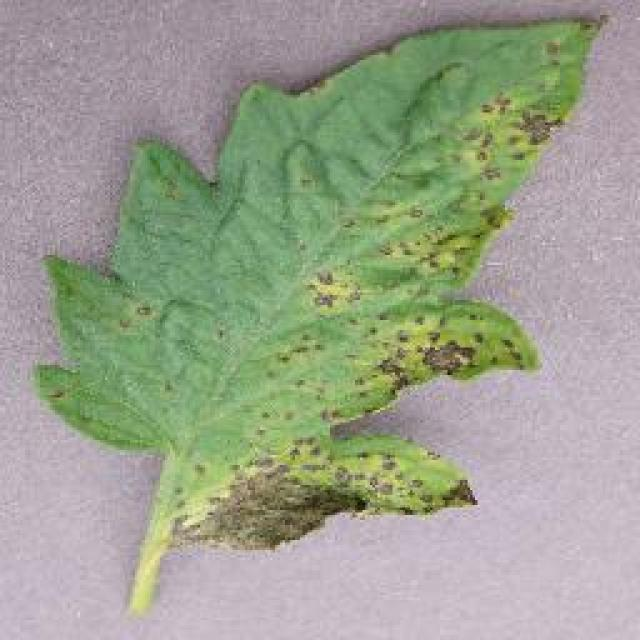Tomato___Septoria_leaf_spot: (38, 20, 598, 610)
